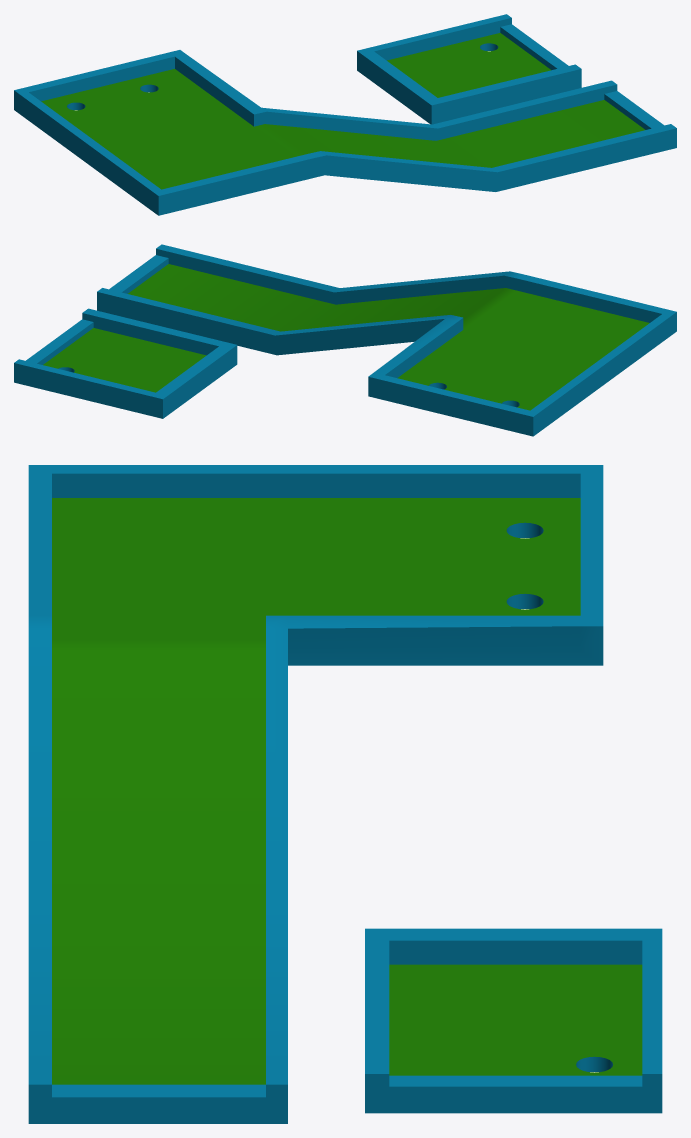
Rendered from Level3.fbx.
3 views of the same model, one above another, from view 1: azimuth 30°, elevation 25°; view 2: azimuth 150°, elevation 25°; view 3: azimuth 270°, elevation 25° (orthographic). The views are drawn at different scales.
Visible parts, largest first — view 1: pCube5, pCube3; view 2: pCube5, pCube3; view 3: pCube5, pCube3.
Boxes of the visible parts, <box> form: pCube5: <box>14,50,676,215</box>; pCube3: <box>357,14,581,124</box>; pCube5: <box>97,244,676,436</box>; pCube3: <box>14,308,237,418</box>; pCube5: <box>28,465,603,1123</box>; pCube3: <box>365,928,662,1113</box>.
Size of the model in its own units: 11.44 by 1.65 by 6.09.
Materials: 1 (1 with a texture image).
